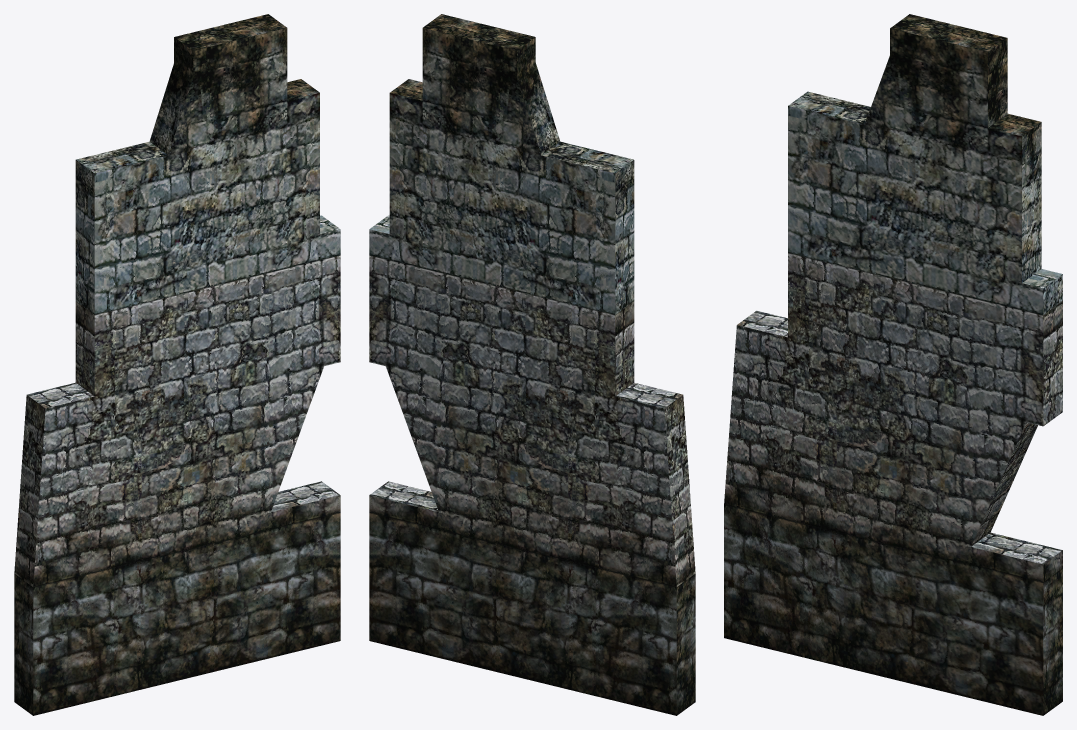
3 renders of one model, left to right at view 1: azimuth 30°, elevation 25°; view 2: azimuth 150°, elevation 25°; view 3: azimuth 330°, elevation 25°, orthographic. The views are drawn at different scales.
Parts seen in each view (by area): view 1: hr_hf1; view 2: hr_hf1; view 3: hr_hf1.
Boxes of the visible parts, x1,y1,x2,y2 form: hr_hf1: (14, 14, 340, 715); hr_hf1: (369, 14, 695, 715); hr_hf1: (724, 14, 1062, 715).
Bounding box in the file's own units: 3.75 × 7.3 × 0.4005.
Materials: 3 (3 with a texture image).
